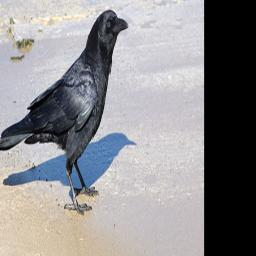Crow: (0, 9, 129, 215)
